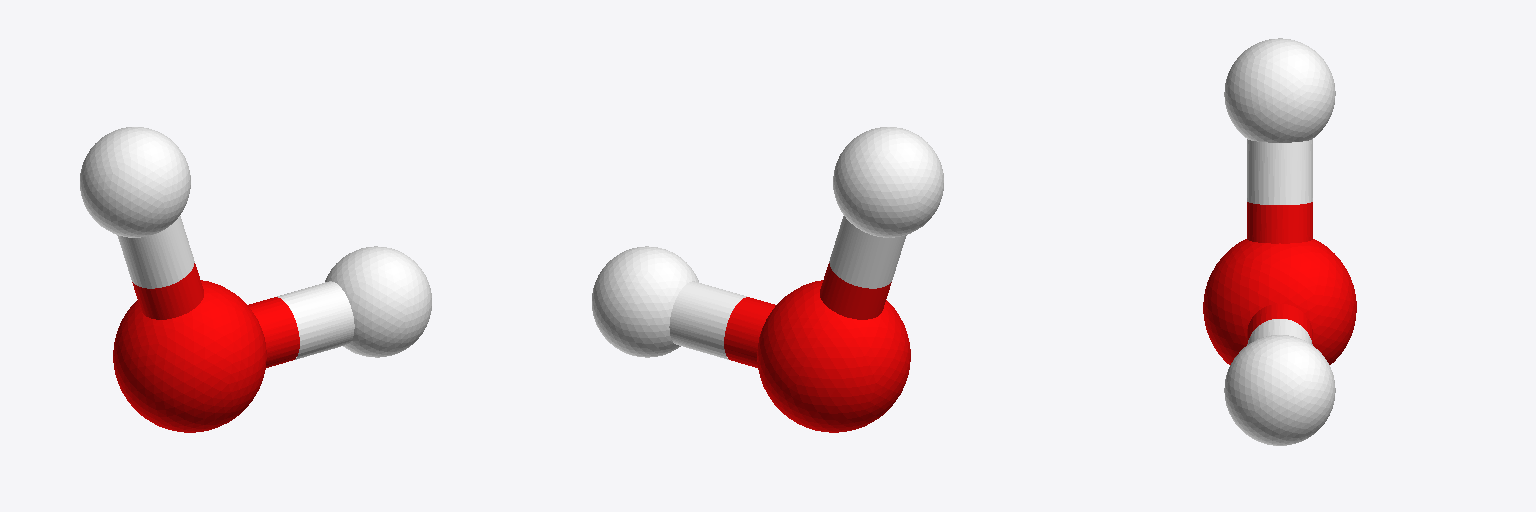
3 views of the same model, side by side, from view 1: azimuth 30°, elevation 25°; view 2: azimuth 150°, elevation 25°; view 3: azimuth 270°, elevation 25° (orthographic).
Parts seen in each view (by area): view 1: O1_Atom, H3_Atom, H2_Atom, Cylinder4, Cylinder2, Cylinder3, Cylinder1; view 2: O1_Atom, H3_Atom, H2_Atom, Cylinder4, Cylinder2, Cylinder3, Cylinder1; view 3: O1_Atom, H2_Atom, H3_Atom, Cylinder2, Cylinder1, Cylinder3, Cylinder4.
Boxes of the visible parts, box(x1,y1,x2,y2) form: O1_Atom: box(113, 280, 266, 432); H3_Atom: box(80, 127, 190, 237); H2_Atom: box(325, 246, 431, 357); Cylinder4: box(277, 281, 354, 359); Cylinder2: box(117, 216, 194, 288); Cylinder3: box(248, 297, 299, 367); Cylinder1: box(132, 263, 203, 319); O1_Atom: box(757, 280, 910, 432); H3_Atom: box(833, 127, 943, 237); H2_Atom: box(592, 246, 698, 357); Cylinder4: box(669, 281, 746, 359); Cylinder2: box(829, 216, 906, 288); Cylinder3: box(724, 297, 775, 367); Cylinder1: box(820, 263, 891, 319); O1_Atom: box(1203, 239, 1356, 364); H2_Atom: box(1224, 335, 1335, 445); H3_Atom: box(1224, 38, 1335, 142); Cylinder2: box(1247, 139, 1312, 204); Cylinder1: box(1247, 202, 1312, 243); Cylinder3: box(1247, 304, 1312, 343); Cylinder4: box(1247, 319, 1312, 344).
Bounding box in the file's own units: 1.77 × 1.54 × 0.699.